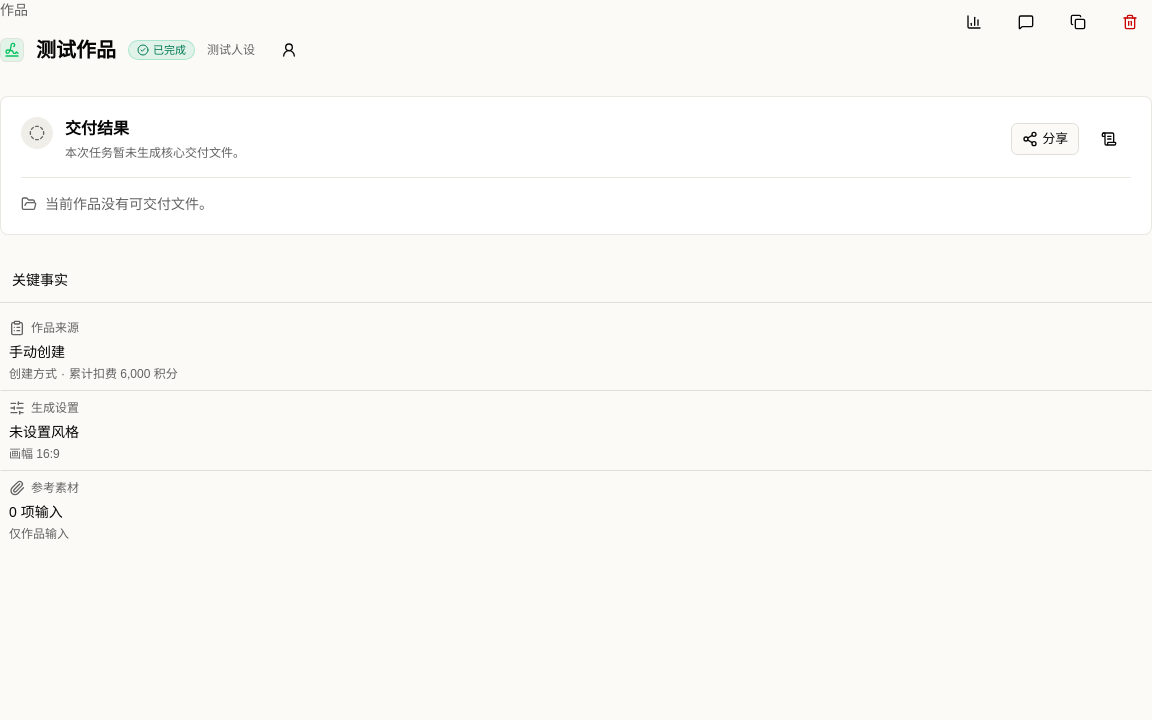
Test: TaskDetailPage › opens Overview from the task source fact
Step 1. Click the button with aria-label "打开作品概览" → (55, 328), box [0,311,1151,391]
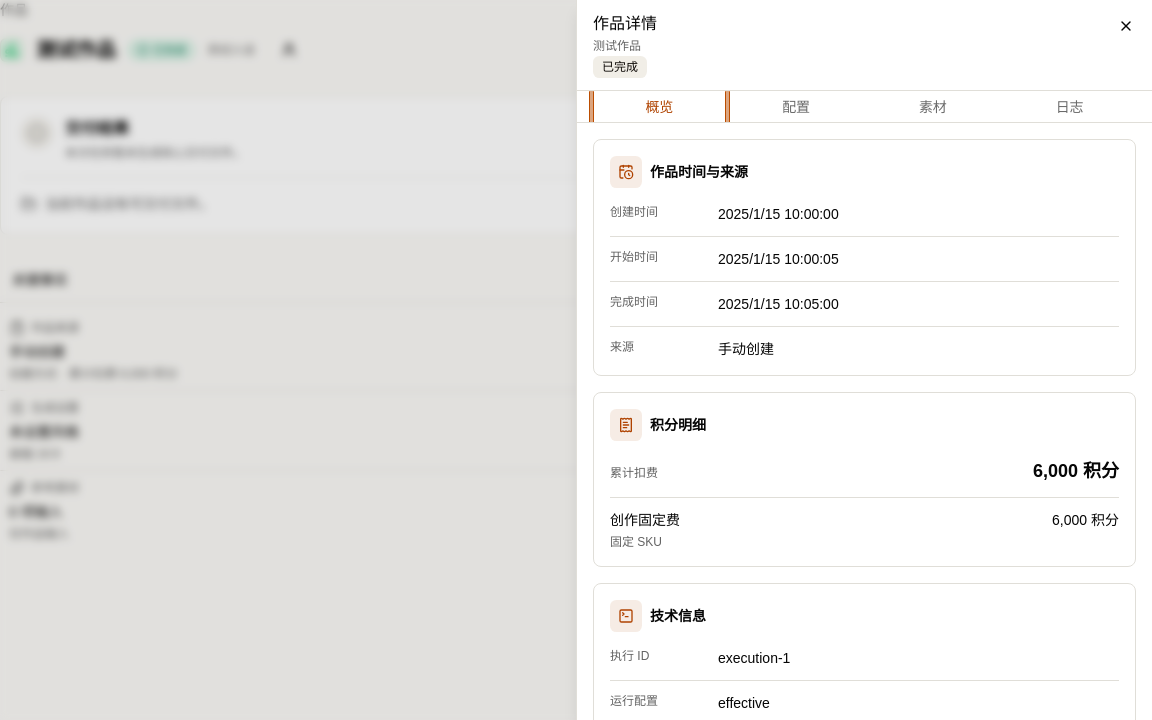
Expected: the heading "作品详情" is shown, [593,15,657,32]
